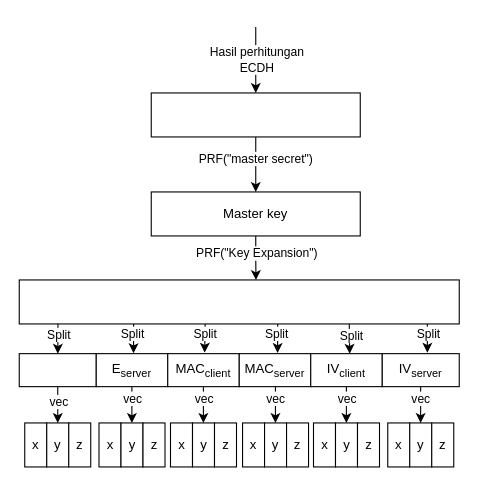
This 479x486 diagram has some shape labels left out. Each missing label, with the centre of its shape:
"E client" belongs at pixel 57 370.
"Key Expansion" belongs at pixel 238 301.
"Premaster key" belongs at pixel 255 114.
